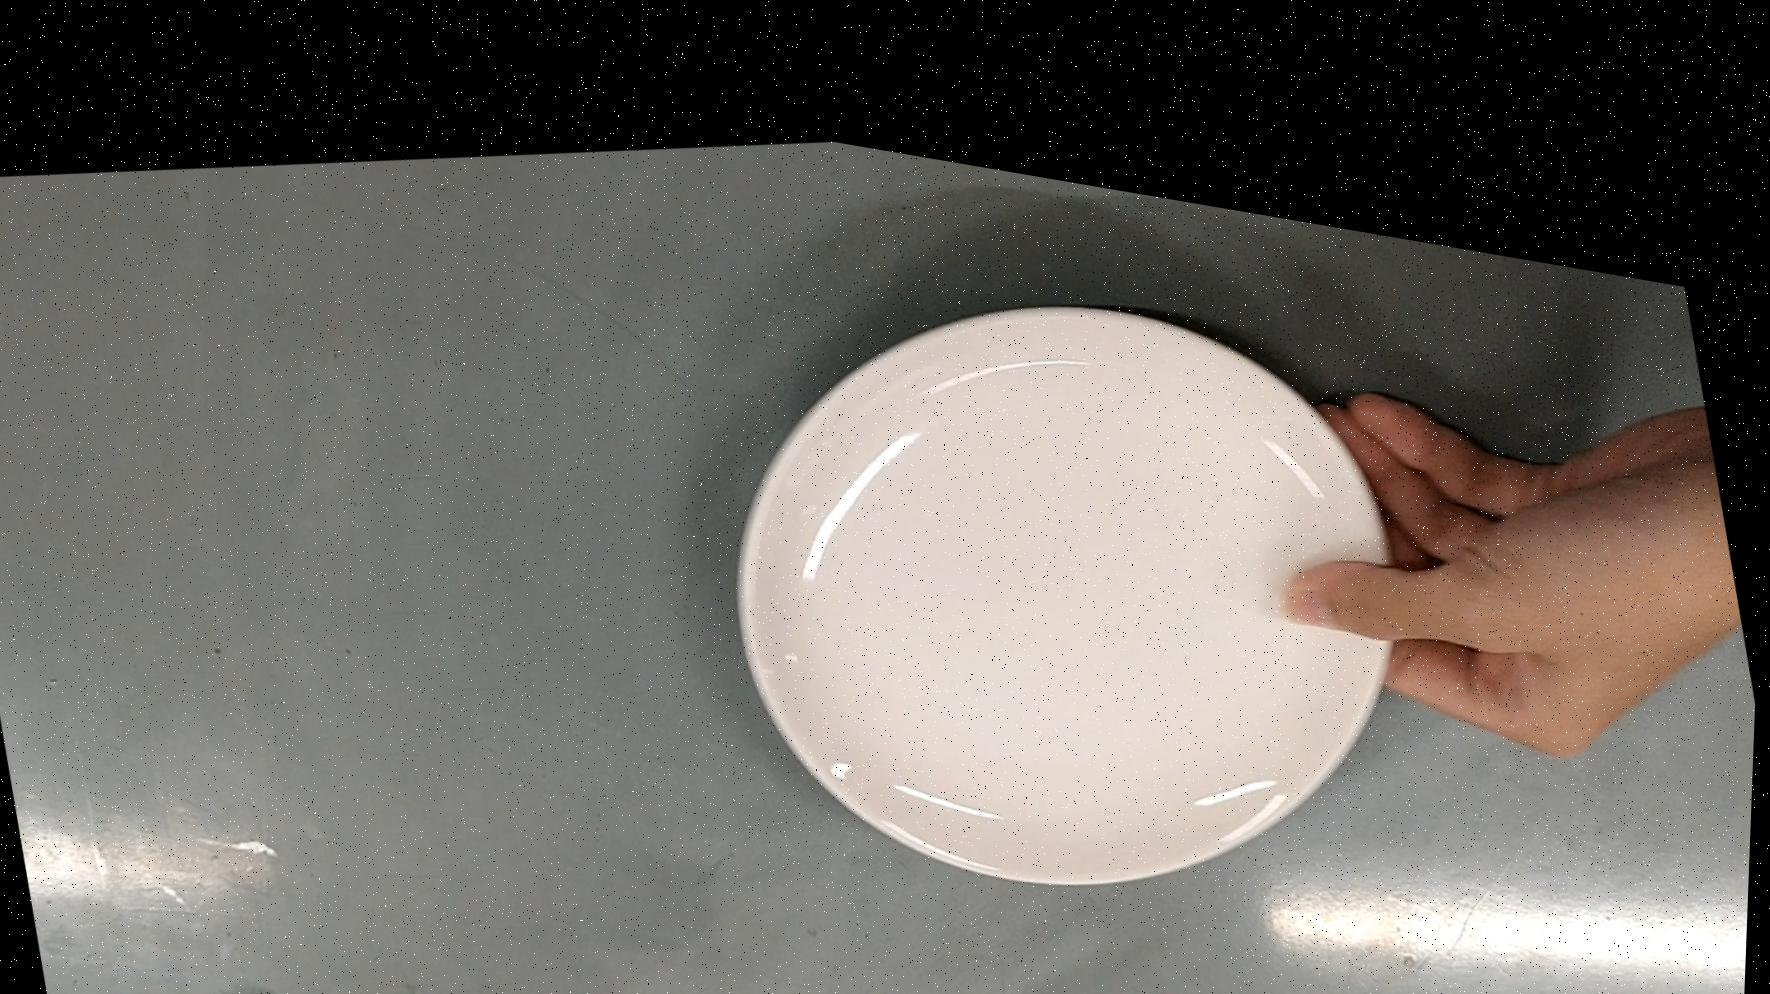plate: (670, 152, 1472, 962)
